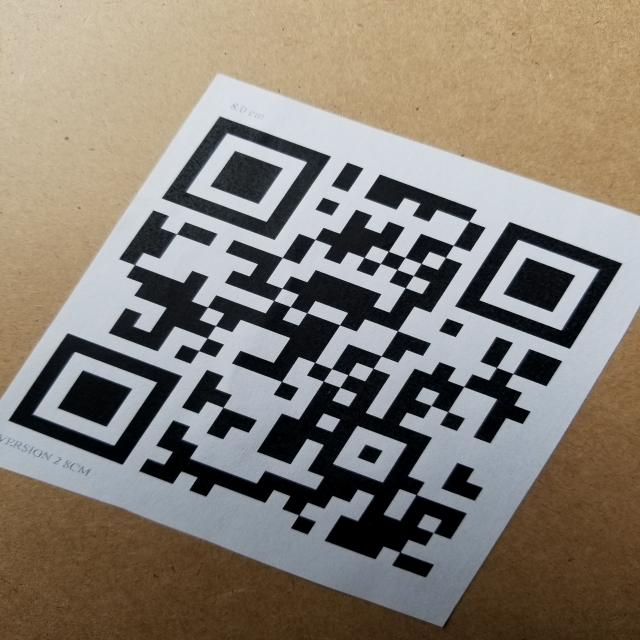QRCode: (4, 99, 631, 584)
